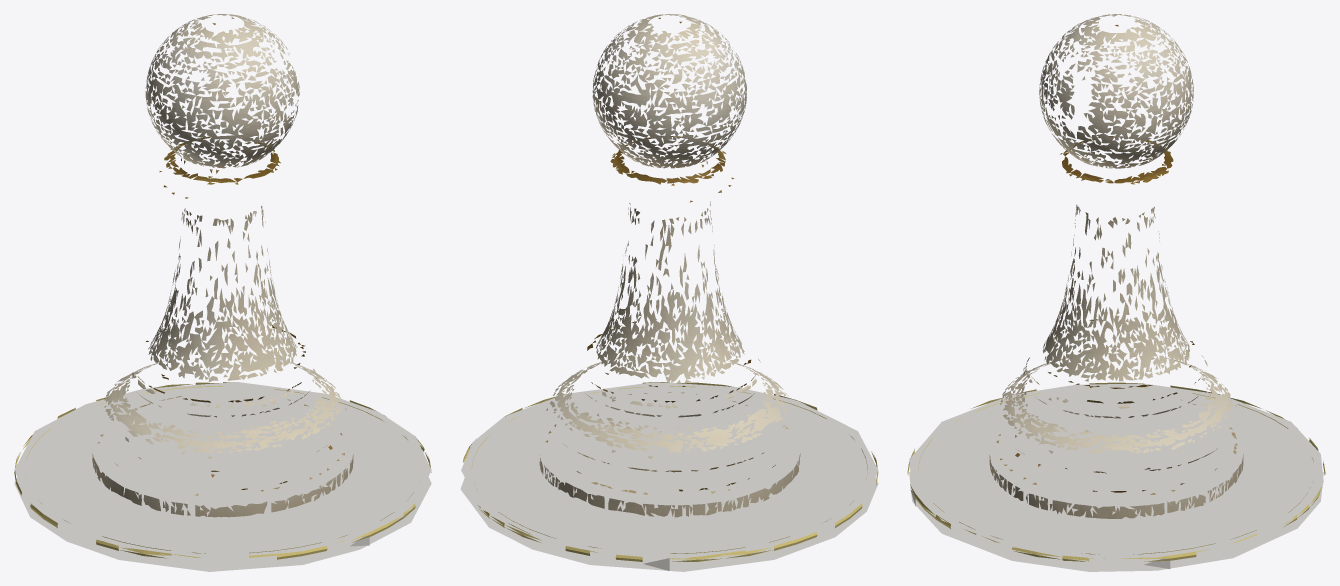
File: pawn-classic-pedone-10k.glb
3 views of the same model, side by side, from view 1: azimuth 30°, elevation 25°; view 2: azimuth 150°, elevation 25°; view 3: azimuth 270°, elevation 25° (orthographic).
Visible parts, largest first — view 1: FactionPedestal, tmp330z47my.ply, FactionTrimRing; view 2: FactionPedestal, tmp330z47my.ply, FactionTrimRing; view 3: FactionPedestal, tmp330z47my.ply, FactionTrimRing.
Boxes of the visible parts, bbox=[...] form: FactionPedestal: bbox=[14, 382, 431, 571]; tmp330z47my.ply: bbox=[92, 14, 353, 517]; FactionTrimRing: bbox=[14, 382, 431, 559]; FactionPedestal: bbox=[460, 382, 878, 571]; tmp330z47my.ply: bbox=[539, 14, 800, 517]; FactionTrimRing: bbox=[463, 382, 878, 561]; FactionPedestal: bbox=[909, 383, 1323, 571]; tmp330z47my.ply: bbox=[989, 14, 1243, 518]; FactionTrimRing: bbox=[907, 382, 1325, 561].
Size of the model in its own units: 0.7409 by 0.9108 by 0.744.
3 materials, 1 textured.
